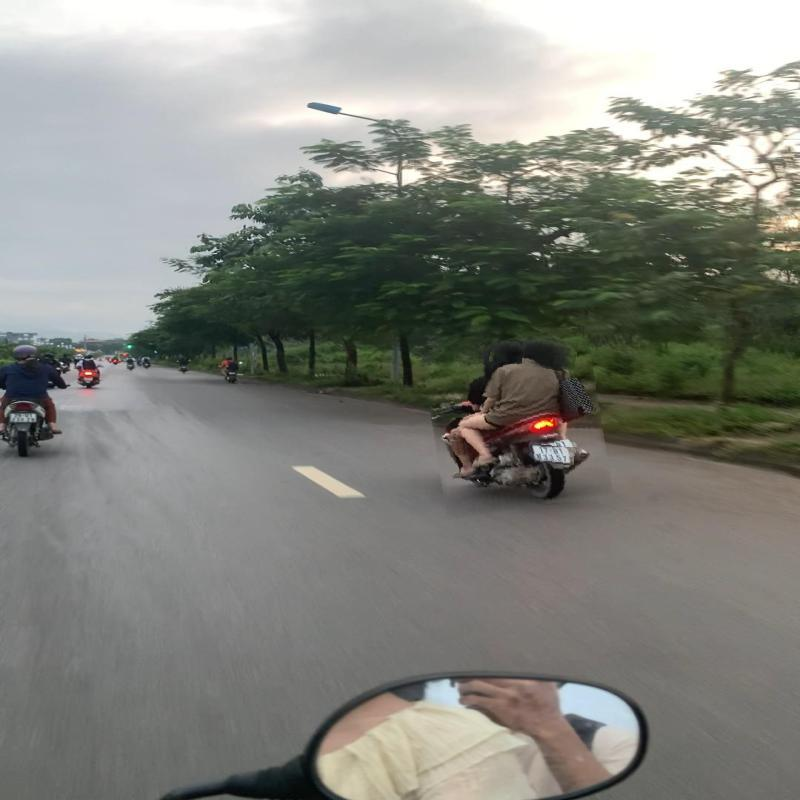licenseplate: (528, 445, 575, 465)
motorcyclist: (427, 332, 607, 514)
nohelmet: (522, 337, 577, 371), (490, 340, 526, 364)
